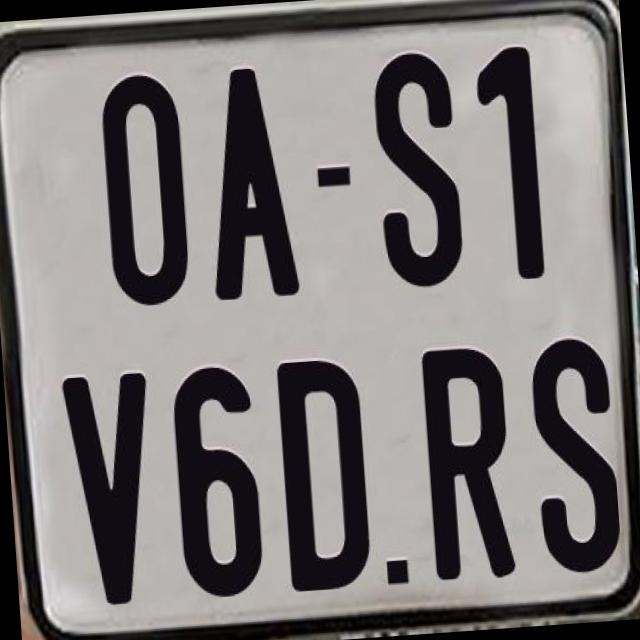0: (94, 67, 194, 303)
1: (472, 46, 550, 282)
6: (170, 363, 270, 602)
A: (196, 62, 296, 296)
D: (274, 352, 374, 594)
R: (421, 342, 517, 584)
S: (368, 48, 468, 292), (524, 332, 622, 574)
V: (59, 372, 161, 614)
